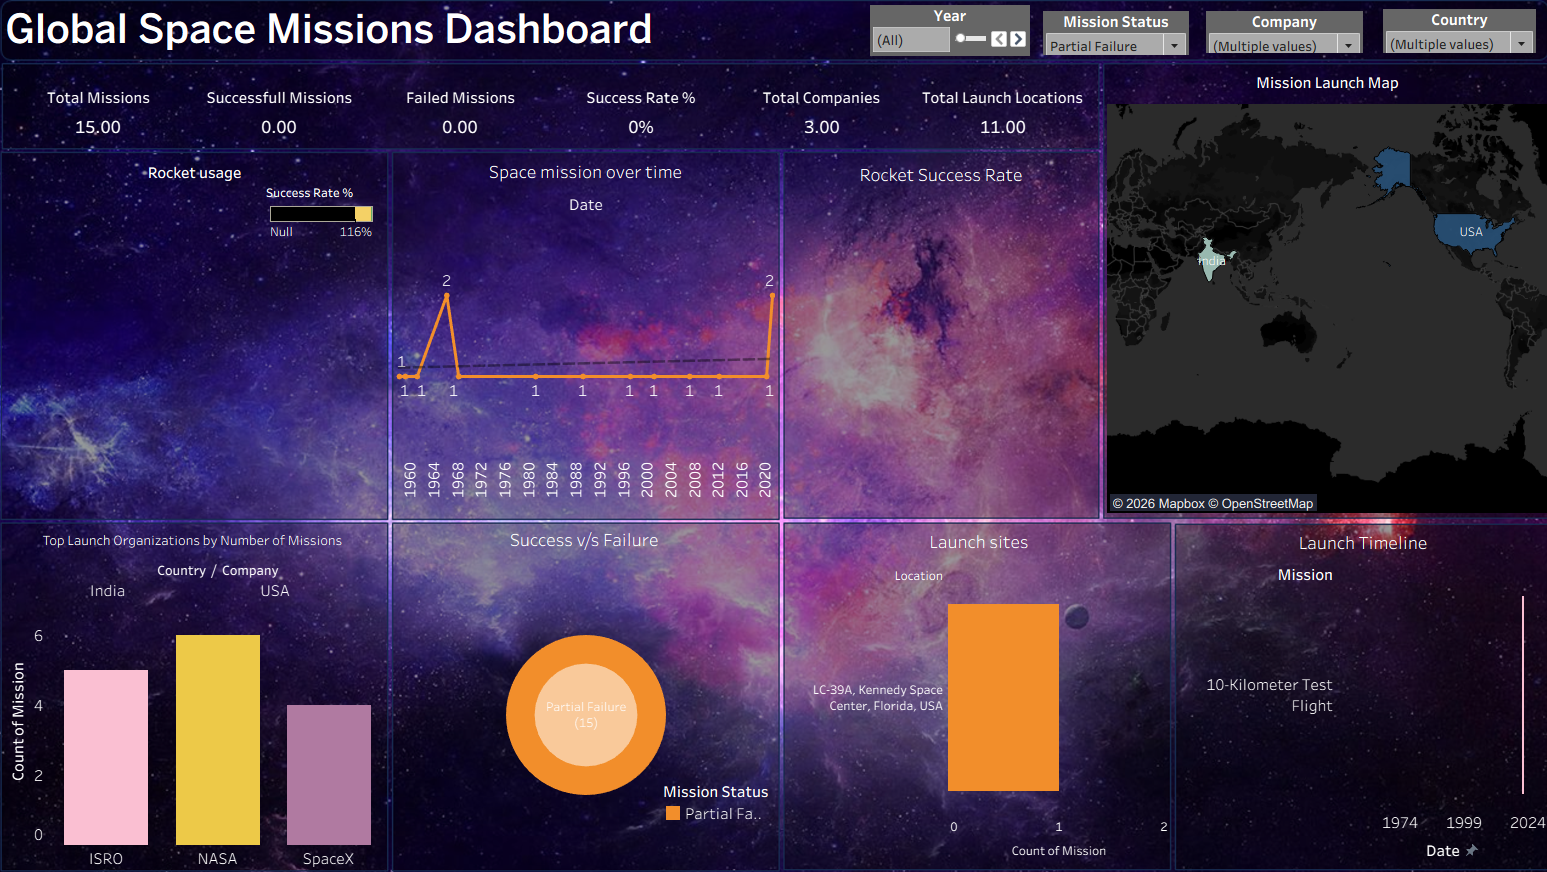

What the dashboard file says about the page in this screenshot:
{"tool":"tableau","page":{"name":"Space mission dashboard","canvas":[1580,900],"ordinal":0},"visuals":[{"type":"image","param":"Image/space background.png","box":[8,8,1564,884]},{"type":"filter","title":"Filters","param":"[federated.16n310l1mkbzr01efwcor0iu8qdv].[yr:Date:ok]","box":[885,17,160,51]},{"type":"text","box":[17,21,664,41]},{"type":"filter","title":"Filters","param":"[federated.16n310l1mkbzr01efwcor0iu8qdv].[none:Calculation_0682570195472391:nk]","box":[1398,21,153,44]},{"type":"filter","title":"Filters","param":"[federated.16n310l1mkbzr01efwcor0iu8qdv].[none:MissionStatus:nk]","box":[1058,23,146,44]},{"type":"filter","title":"Filters","param":"[federated.16n310l1mkbzr01efwcor0iu8qdv].[none:Company:nk]","box":[1221,23,157,42]},{"type":"worksheet","title":"KPI Cards","mark":"Text","box":[23,80,1085,77]},{"type":"worksheet","title":"Mission Launch Map","mark":"Automatic","box":[1122,80,441,445]},{"type":"worksheet","title":"Space mission over time","mark":"Automatic","rows":["Mission"],"cols":["Date"],"box":[411,167,379,362]},{"type":"worksheet","title":"Rocket usage","mark":"Automatic","rows":["Rocket"],"cols":["Mission"],"box":[19,170,381,358]},{"type":"worksheet","title":"Rocket Success Rate","mark":"Square","rows":["Rocket"],"box":[801,170,310,356]},{"type":"legend","title":"Rocket usage","param":"[federated.16n310l1mkbzr01efwcor0iu8qdv].[usr:Calculation_0682570191486979:qk]","box":[281,196,111,70]},{"type":"worksheet","title":"Success v/s Failure ","mark":"Pie","rows":["Calculation_0682570200645641","Calculation_0682570200645641"],"box":[411,535,380,345]},{"type":"worksheet","title":"Launch sites","mark":"Automatic","rows":["Location"],"cols":["Mission"],"box":[803,537,382,341]},{"type":"worksheet","title":"Launch Timeline","mark":"GanttBar","rows":["Mission"],"cols":["Date"],"box":[1193,538,370,342]},{"type":"worksheet","title":"Top Launch Organizations by Number of Missions","mark":"Automatic","rows":["Mission"],"cols":["Calculation_0682570195472391","Company"],"box":[15,539,385,343]},{"type":"worksheet","title":"Filters","mark":"Automatic","box":[482,587,64,38]},{"type":"legend","title":"Success v/s Failure ","param":"[federated.16n310l1mkbzr01efwcor0iu8qdv].[none:MissionStatus:nk]","box":[678,793,107,85]}]}

Visuals, with their boxes in screenshot pixels (x1, y1, x2, y2), scaled from the page's 1580x900 canvas onto the 1547x872 screenshot:
image: [x1=8, y1=8, x2=1539, y2=864]
"Filters" filter: [x1=867, y1=16, x2=1023, y2=66]
text: [x1=17, y1=20, x2=667, y2=60]
"Filters" filter: [x1=1369, y1=20, x2=1519, y2=63]
"Filters" filter: [x1=1036, y1=22, x2=1179, y2=65]
"Filters" filter: [x1=1195, y1=22, x2=1349, y2=63]
"KPI Cards" worksheet (Text marks): [x1=23, y1=78, x2=1085, y2=152]
"Mission Launch Map" worksheet: [x1=1099, y1=78, x2=1530, y2=509]
"Space mission over time" worksheet: [x1=402, y1=162, x2=774, y2=513]
"Rocket usage" worksheet: [x1=19, y1=165, x2=392, y2=512]
"Rocket Success Rate" worksheet (Square marks): [x1=784, y1=165, x2=1088, y2=510]
"Rocket usage" legend: [x1=275, y1=190, x2=384, y2=258]
"Success v/s Failure " worksheet (Pie marks): [x1=402, y1=518, x2=774, y2=853]
"Launch sites" worksheet: [x1=786, y1=520, x2=1160, y2=851]
"Launch Timeline" worksheet (GanttBar marks): [x1=1168, y1=521, x2=1530, y2=853]
"Top Launch Organizations by Number of Missions" worksheet: [x1=15, y1=522, x2=392, y2=855]
"Filters" worksheet: [x1=472, y1=569, x2=535, y2=606]
"Success v/s Failure " legend: [x1=664, y1=768, x2=769, y2=851]
